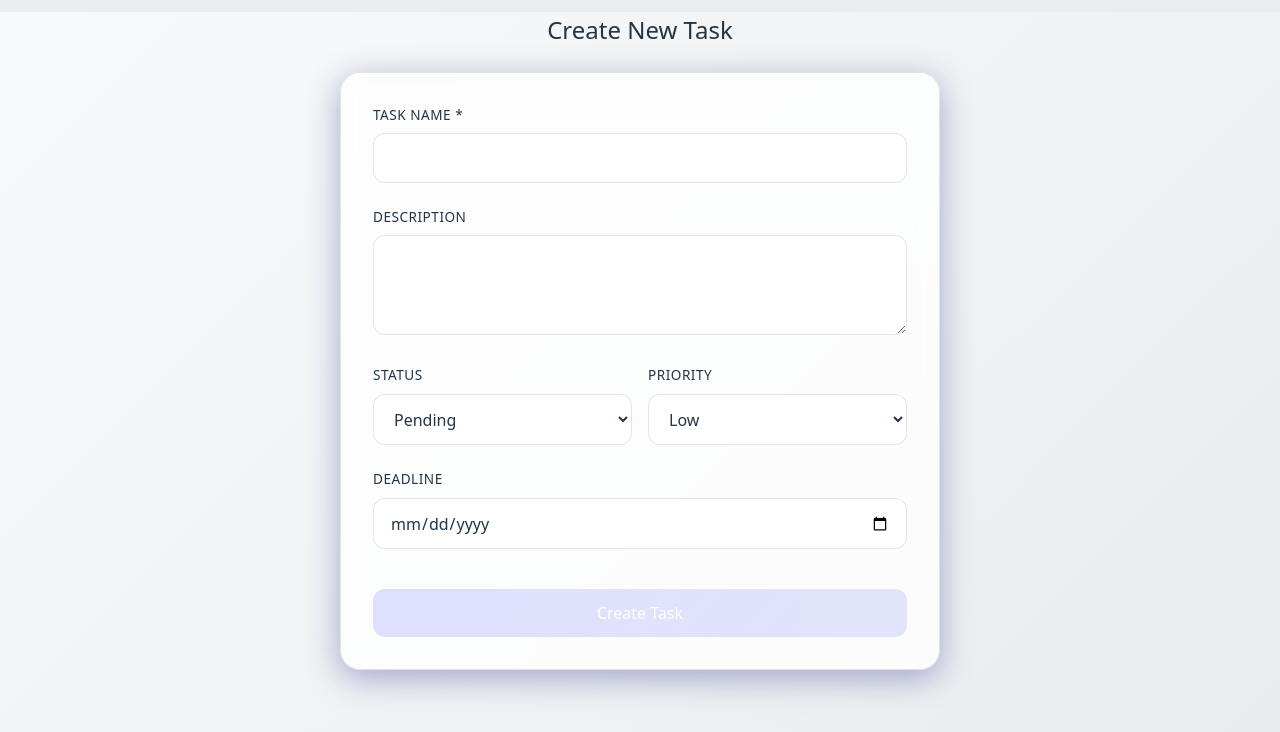
Test: CreateTaskForm › shows validation error message when title is empty and touched
Click the field labelled "Task Name *". click: (640, 158)
box: [373,133,907,183]
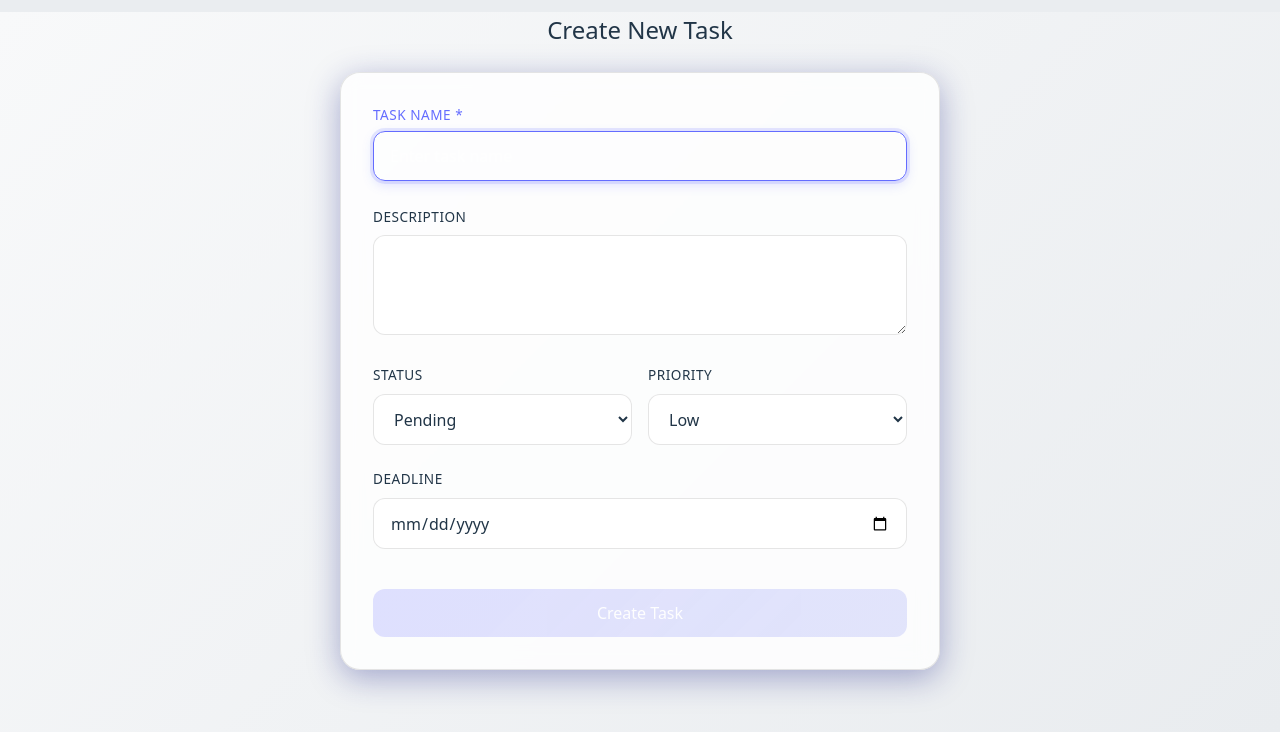
Press Tab
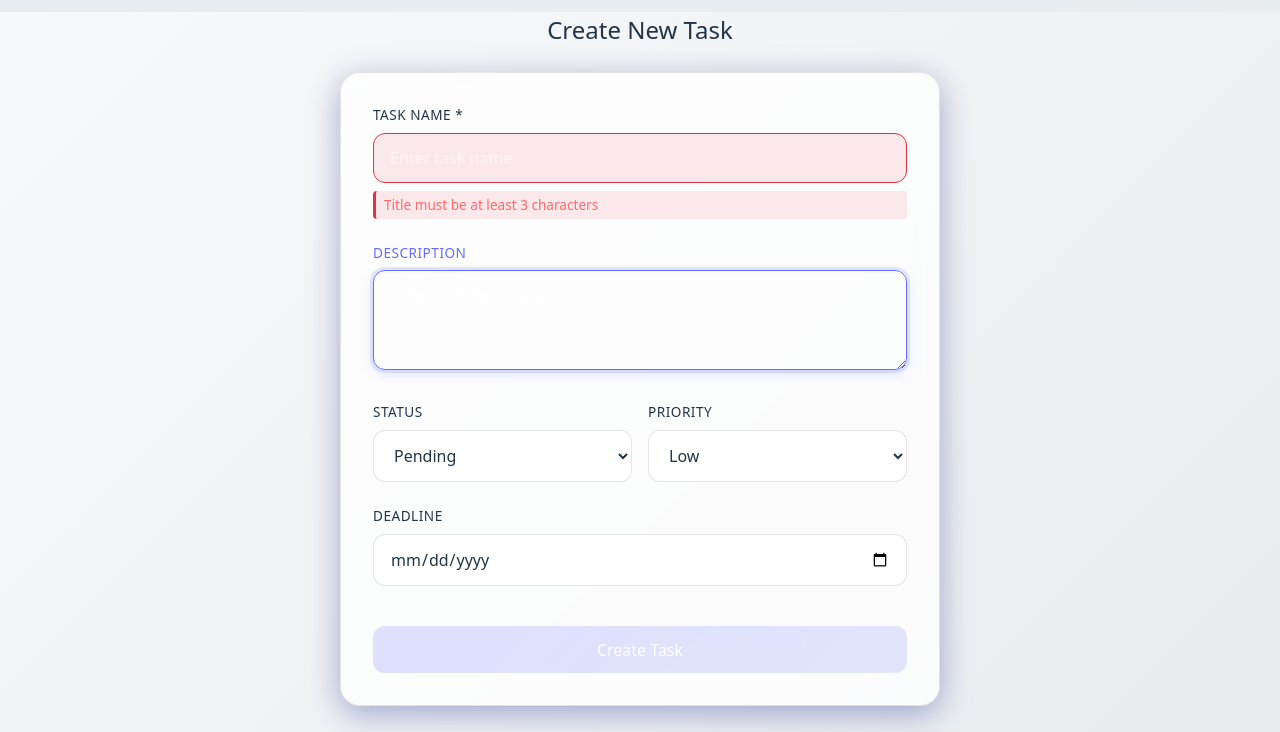
Expected: the text "Title must be at least 3 characters" is shown, [373,191,907,219]
